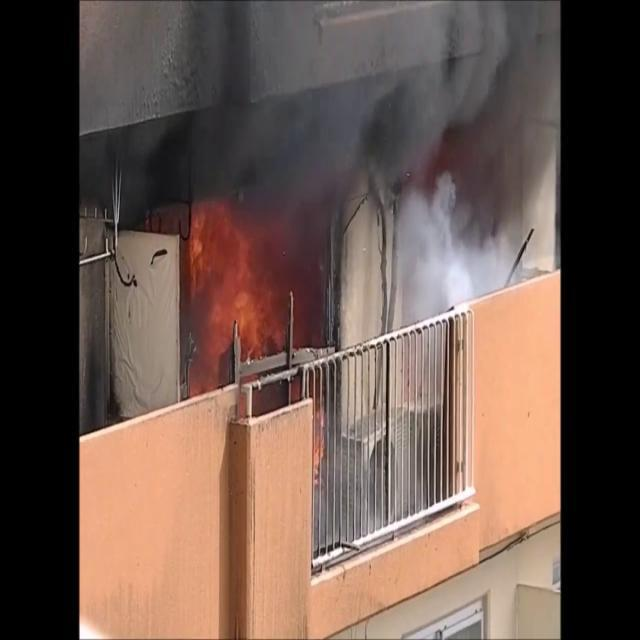Smoke: (86, 2, 558, 279)
